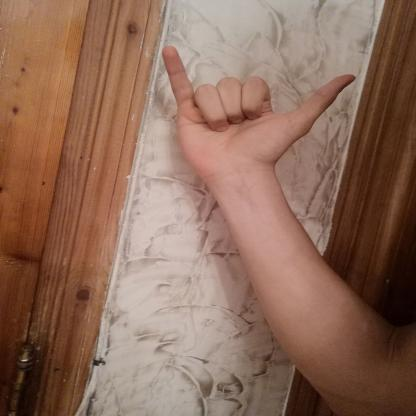YA: (147, 32, 371, 190)
